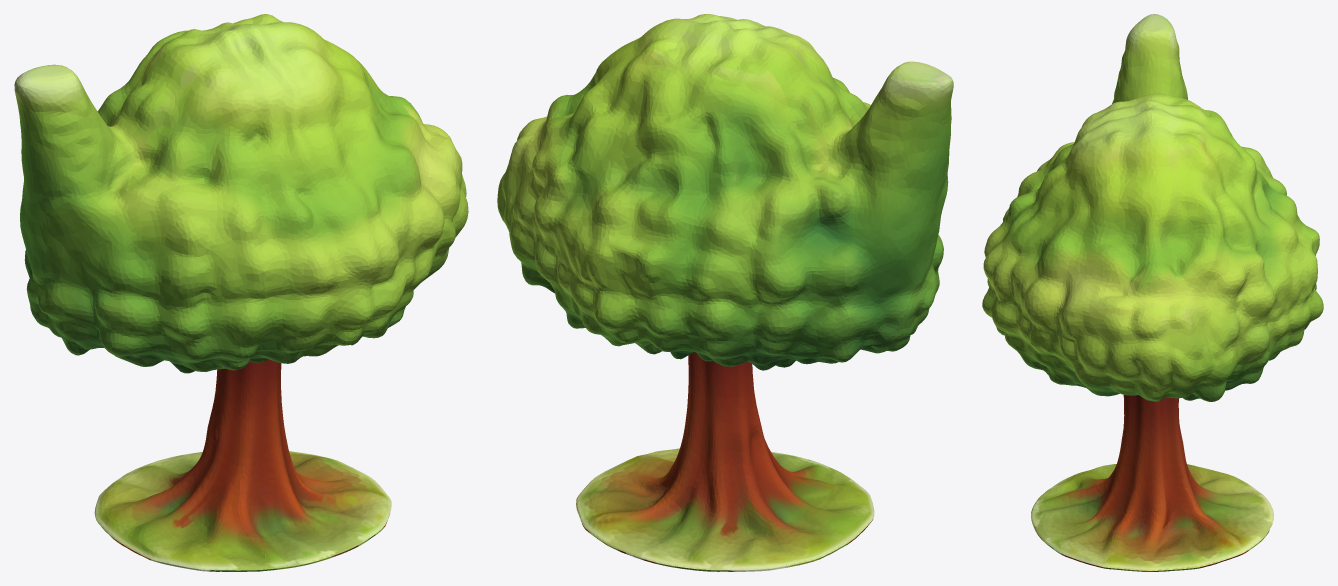
Rendered from tree_textured.glb.
The picture shows the model from 3 angles, left to right: view 1: azimuth 30°, elevation 25°; view 2: azimuth 150°, elevation 25°; view 3: azimuth 270°, elevation 25°; orthographic projection. The views are drawn at different scales.
Parts seen in each view (by area): view 1: temp_mesh.ply; view 2: temp_mesh.ply; view 3: temp_mesh.ply.
Part boxes in pixels (bbox=[...]): temp_mesh.ply: bbox=[14, 14, 468, 571]; temp_mesh.ply: bbox=[497, 14, 953, 571]; temp_mesh.ply: bbox=[982, 14, 1323, 571].
Bounding box in the file's own units: 1.85 × 1.97 × 1.47.
1 material, 1 textured.
